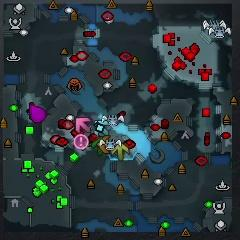Other: (73, 134, 88, 149)
p3: (28, 103, 46, 123)
x1: (75, 116, 91, 134)
x2: (111, 142, 129, 161)
x3: (94, 120, 111, 135)
x4: (91, 136, 104, 156)
x5: (96, 135, 111, 153)
